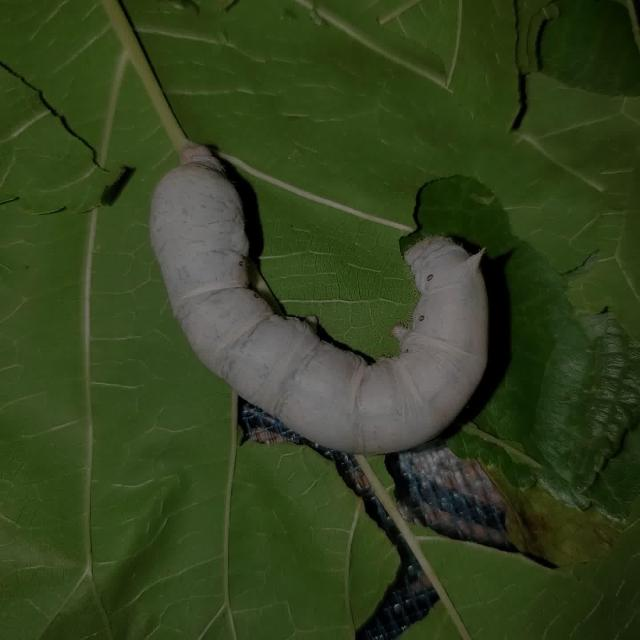Healthy: (131, 114, 529, 483)
